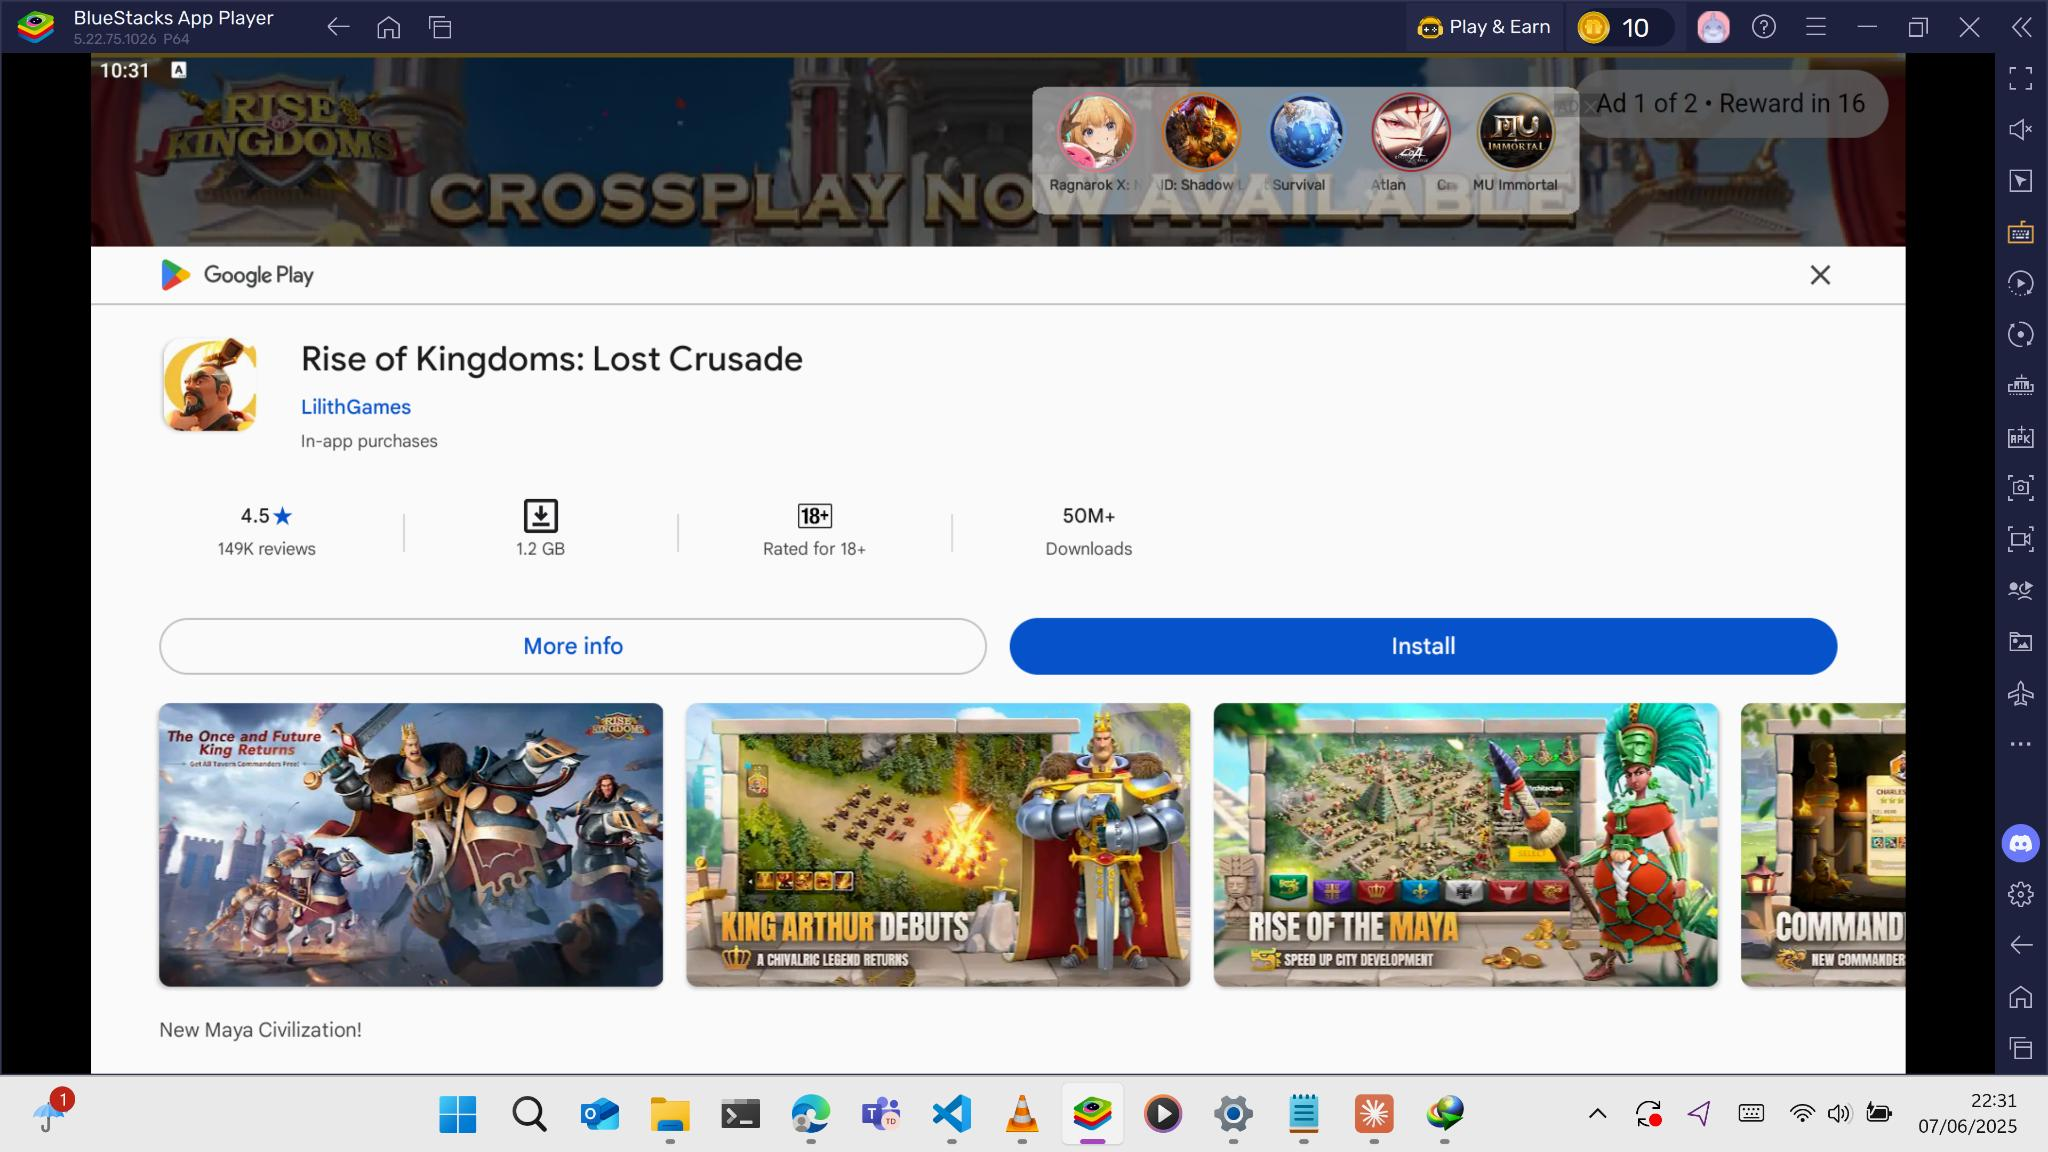close_ad: (1810, 263, 1836, 284)
